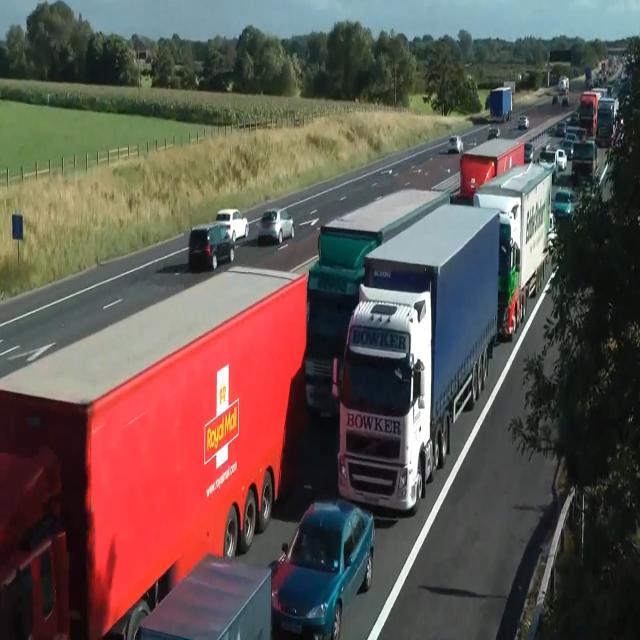bus: (267, 497, 375, 639), (188, 223, 234, 270), (256, 208, 294, 244), (215, 208, 249, 243), (551, 186, 579, 218), (447, 134, 463, 154), (564, 127, 586, 141), (558, 140, 574, 159), (548, 212, 556, 250), (555, 148, 567, 170), (524, 141, 534, 163), (552, 93, 568, 106), (518, 114, 530, 129), (488, 126, 500, 140), (555, 122, 567, 136), (558, 76, 568, 92)
minibus: (0, 265, 308, 639), (332, 202, 500, 514), (304, 187, 450, 420), (472, 160, 554, 341), (458, 137, 526, 199), (579, 90, 619, 146), (571, 138, 597, 185), (486, 86, 512, 122), (552, 76, 569, 106)
